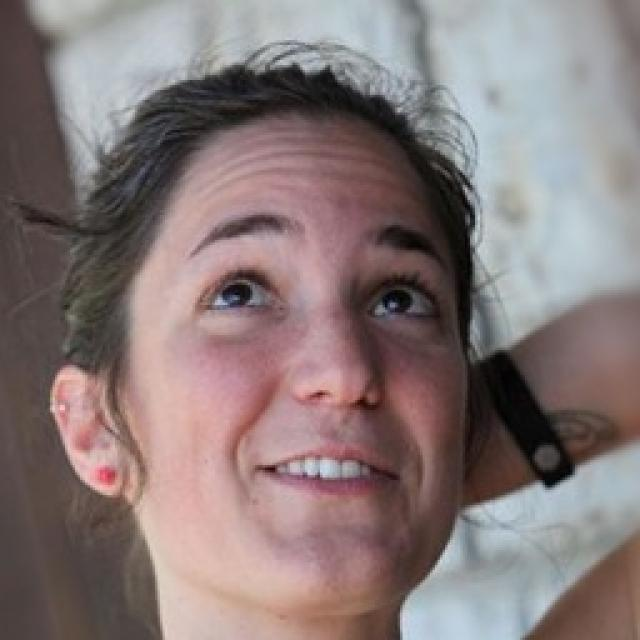no-glasses: (178, 256, 456, 348)
